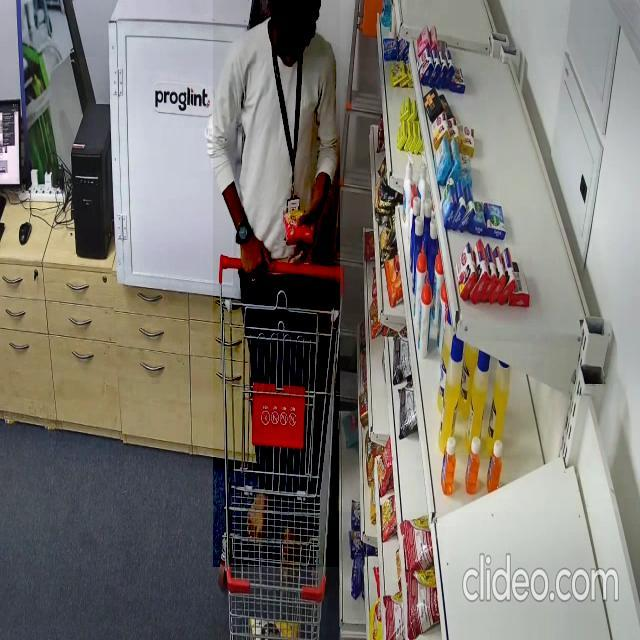normal: (213, 0, 340, 567)
